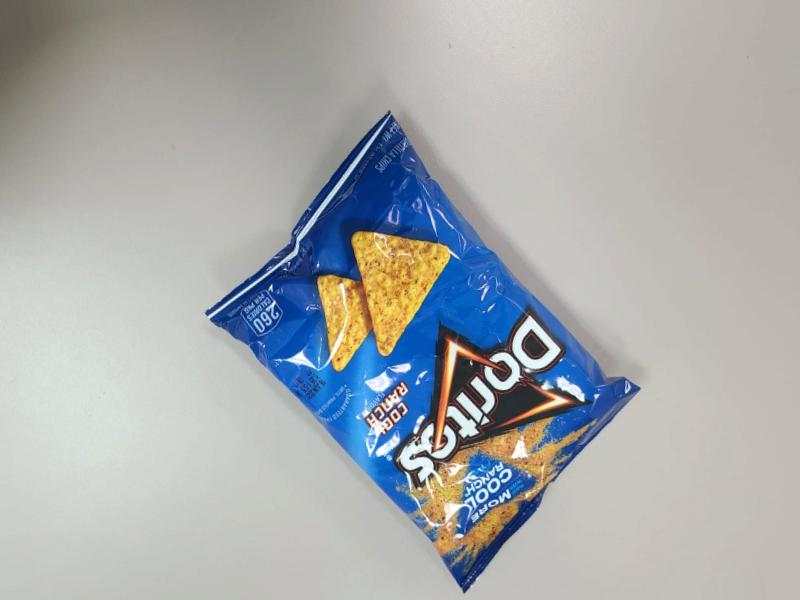doritos: (293, 168, 611, 600)
